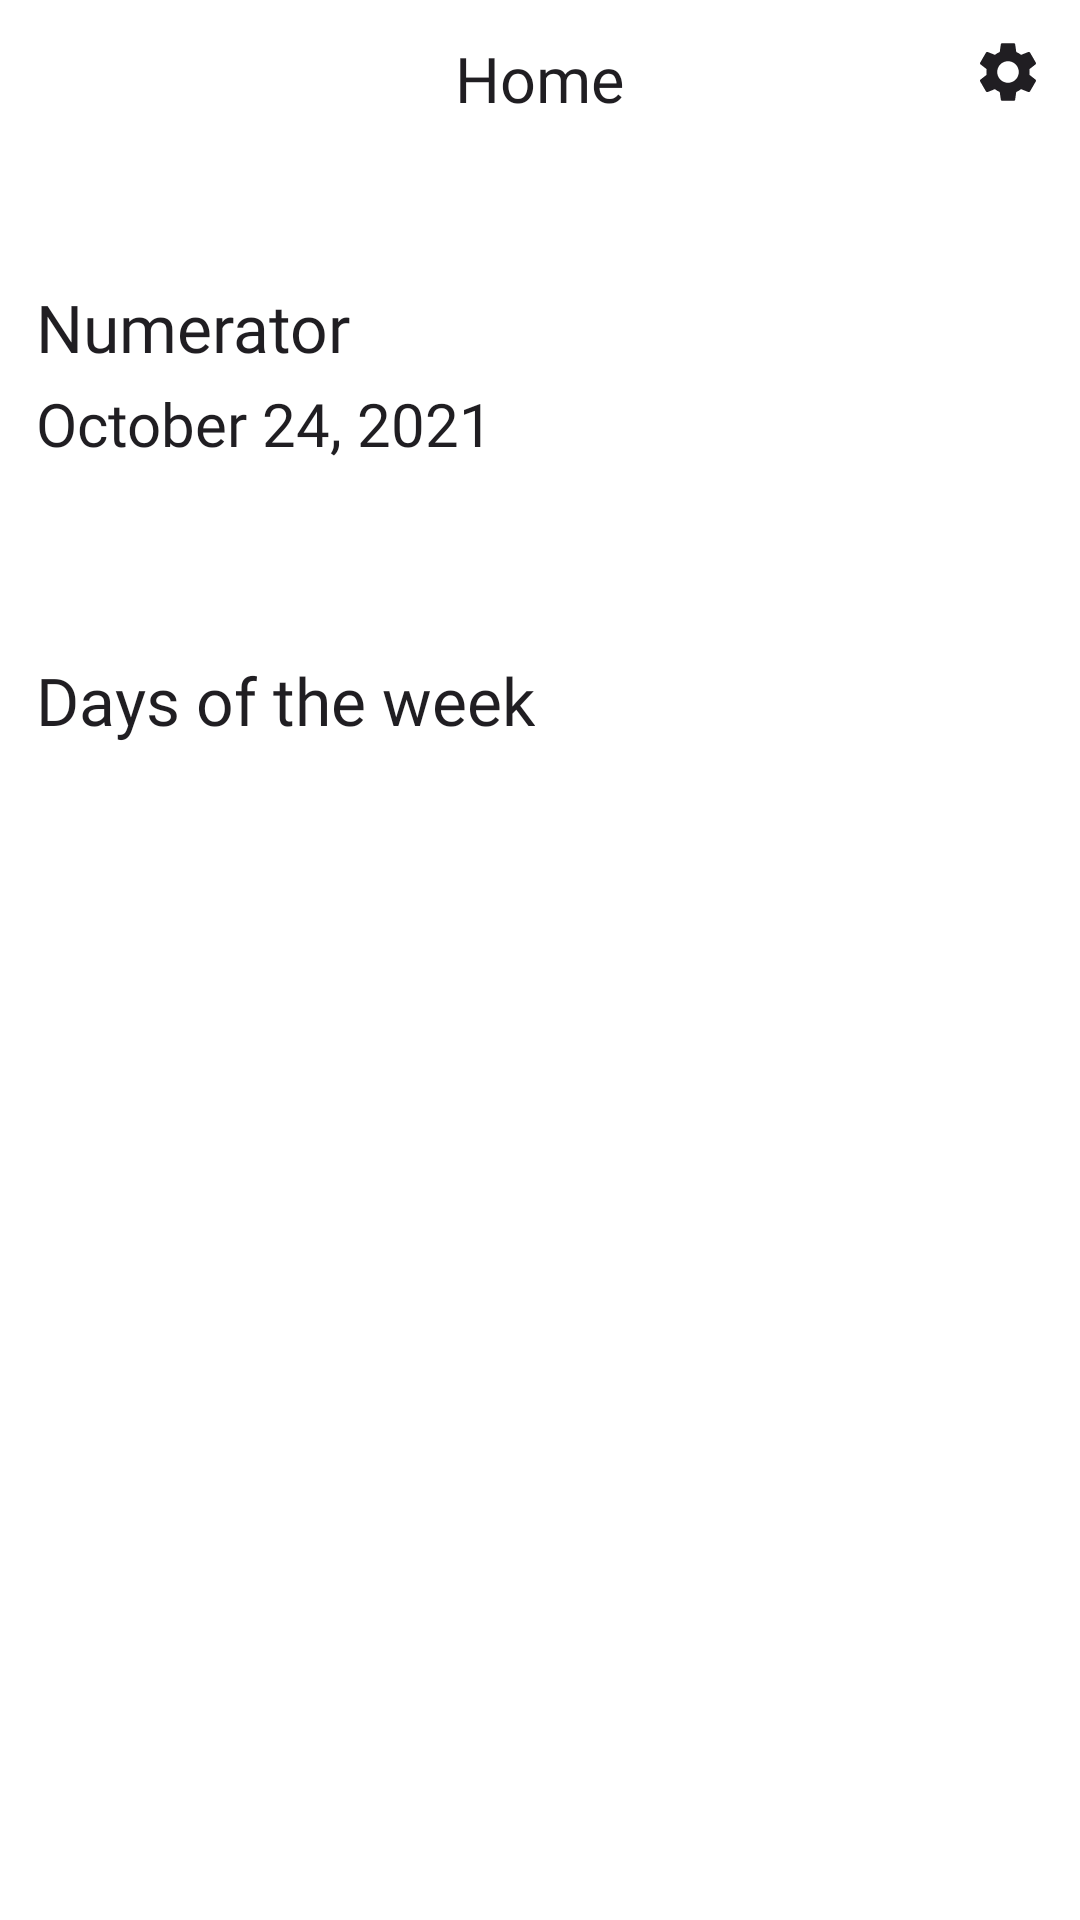

Icon click points for this 1080px×1920px phone screenshot, format [x,y]:
settings: [1008,72]
